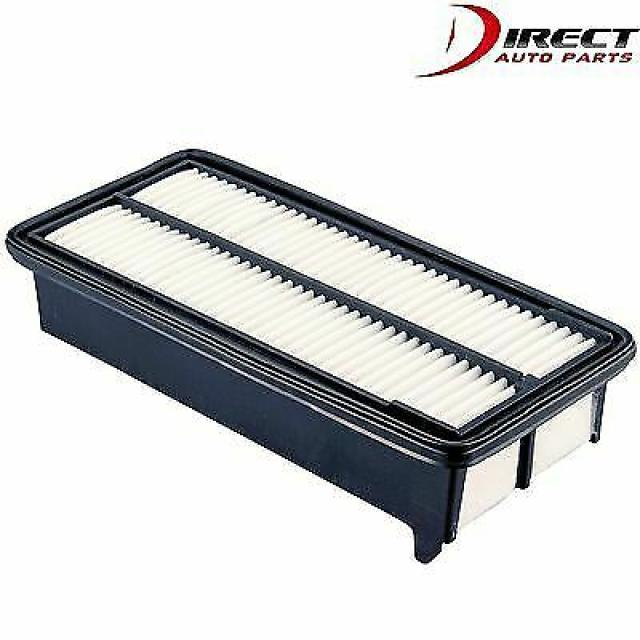air_filter: (6, 147, 635, 461)
